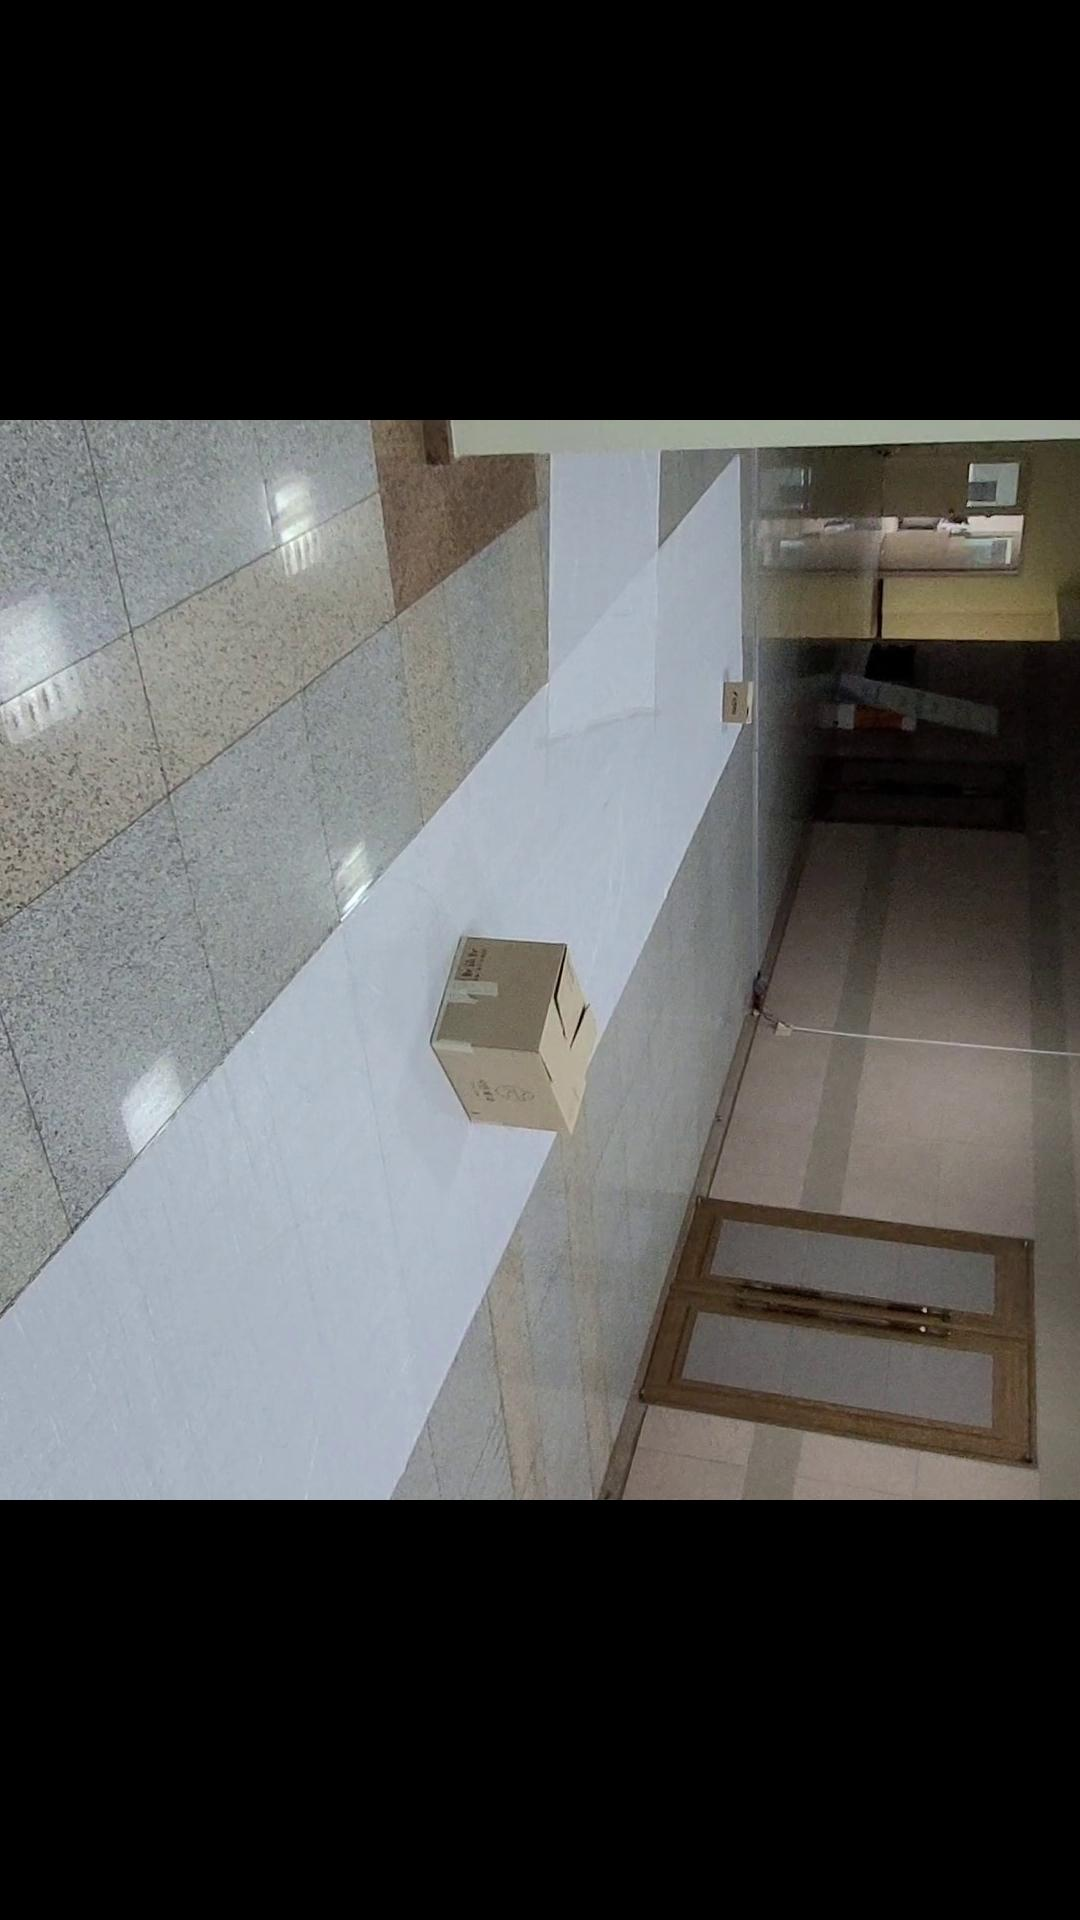Box: (404, 926, 630, 1187), (688, 638, 770, 765)
